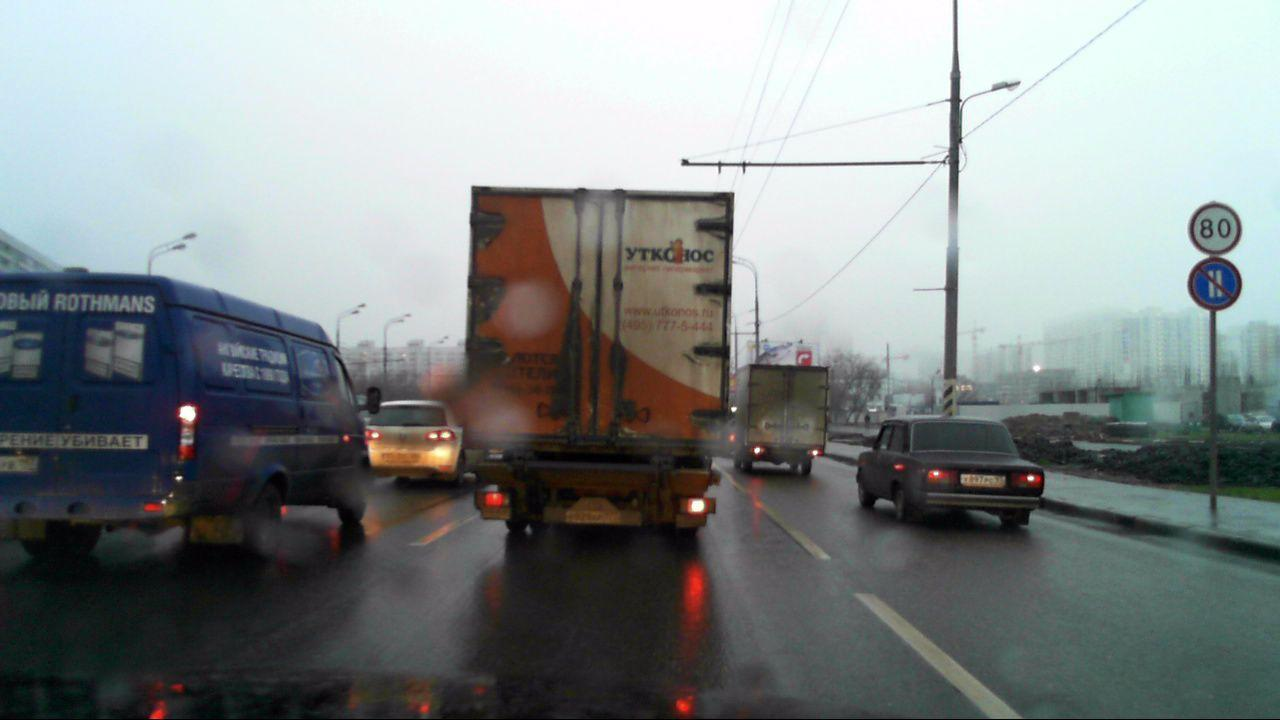3_24: (1189, 197, 1243, 253)
3_30: (1187, 256, 1243, 309)
